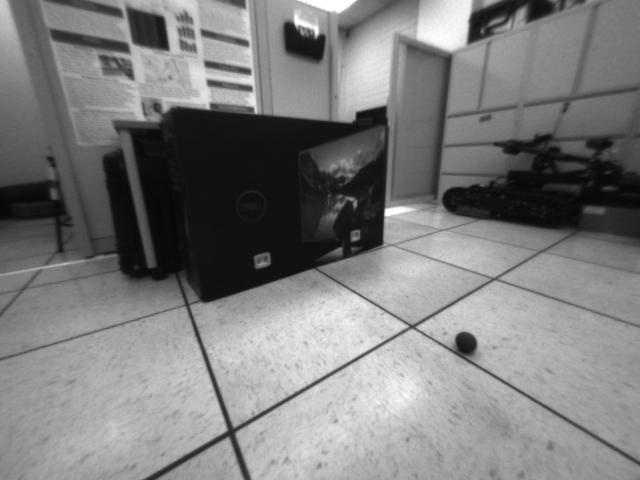dogtoy: (452, 328, 484, 358)
